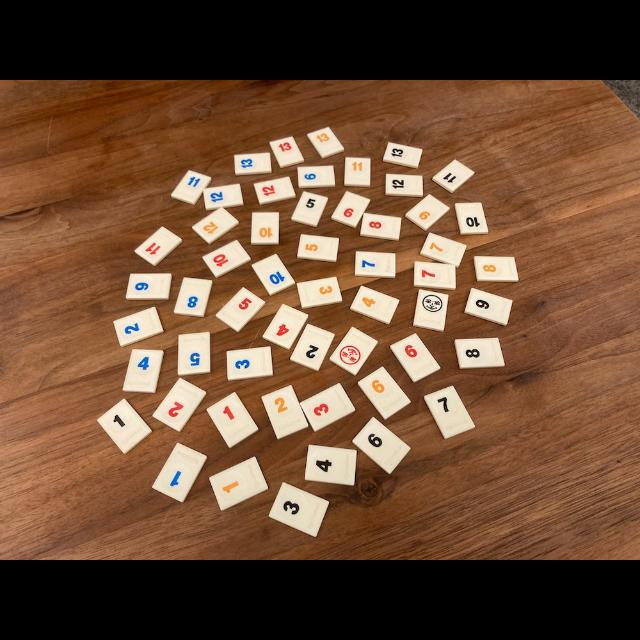black_1: (98, 399, 151, 454)
black_10: (455, 202, 489, 235)
black_11: (432, 160, 475, 192)
black_12: (386, 174, 422, 198)
black_13: (383, 142, 422, 168)
black_2: (290, 324, 335, 371)
black_3: (269, 482, 329, 536)
black_4: (306, 445, 356, 485)
black_5: (291, 191, 328, 228)
black_6: (352, 418, 410, 474)
black_7: (424, 386, 475, 439)
black_8: (455, 338, 505, 369)
black_9: (466, 288, 512, 325)
blue_1: (152, 442, 206, 502)
blue_10: (251, 254, 295, 295)
blue_11: (171, 171, 211, 205)
blue_12: (204, 184, 244, 210)
blue_13: (234, 152, 271, 175)
blue_2: (114, 306, 164, 346)
blue_3: (227, 346, 272, 380)
blue_4: (124, 349, 164, 392)
blue_5: (178, 333, 210, 375)
blue_6: (299, 165, 335, 189)
blue_7: (356, 251, 395, 277)
blue_8: (174, 278, 212, 316)
blue_9: (126, 274, 171, 300)
joker: (331, 328, 378, 375), (412, 289, 449, 331)
orange_1: (209, 456, 268, 510)
orange_10: (251, 213, 279, 245)
orange_11: (344, 158, 371, 188)
orange_12: (192, 208, 239, 244)
orange_13: (308, 128, 344, 159)
orange_2: (261, 385, 309, 439)
orange_3: (296, 276, 342, 309)
orange_4: (350, 286, 399, 324)
orange_5: (298, 234, 338, 262)
orange_6: (358, 366, 410, 419)
orange_7: (421, 232, 466, 268)
orange_8: (474, 256, 519, 281)
orange_9: (405, 194, 449, 230)
red_1: (206, 392, 259, 448)
red_10: (203, 240, 251, 278)
red_11: (135, 226, 182, 266)
red_12: (254, 176, 296, 205)
red_13: (271, 136, 304, 168)
red_2: (152, 379, 206, 431)
red_3: (301, 384, 355, 431)
red_4: (262, 304, 309, 350)
red_5: (216, 288, 265, 331)
red_6: (390, 334, 440, 382)
red_7: (414, 262, 456, 290)
red_8: (360, 212, 401, 241)
red_9: (332, 191, 370, 228)
